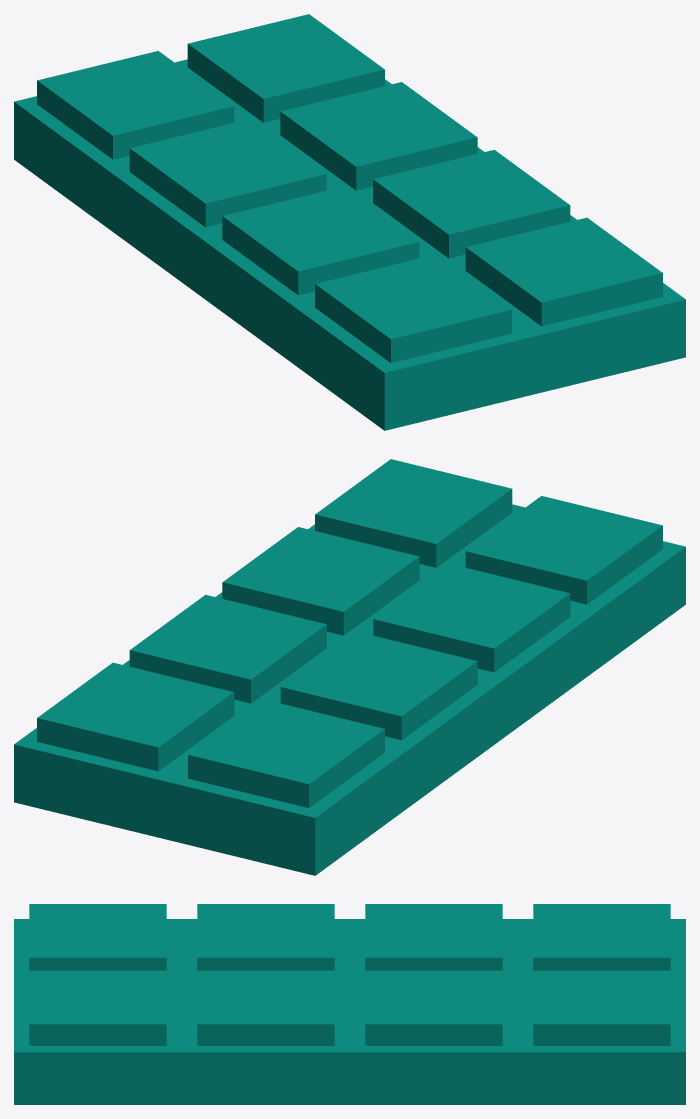
The model's file is Lego_Part_10.fbx.
3 views of the same model, one above another, from view 1: azimuth 30°, elevation 25°; view 2: azimuth 150°, elevation 25°; view 3: azimuth 270°, elevation 25° (orthographic). The views are drawn at different scales.
Visible parts, largest first — view 1: Lego_Part_10; view 2: Lego_Part_10; view 3: Lego_Part_10.
Boxes of the visible parts, bbox=[...] form: Lego_Part_10: bbox=[14, 14, 685, 430]; Lego_Part_10: bbox=[14, 459, 685, 875]; Lego_Part_10: bbox=[14, 904, 685, 1104].
Bounding box in the file's own units: 4.16 × 1.08 × 8.86.
1 material, 1 textured.
